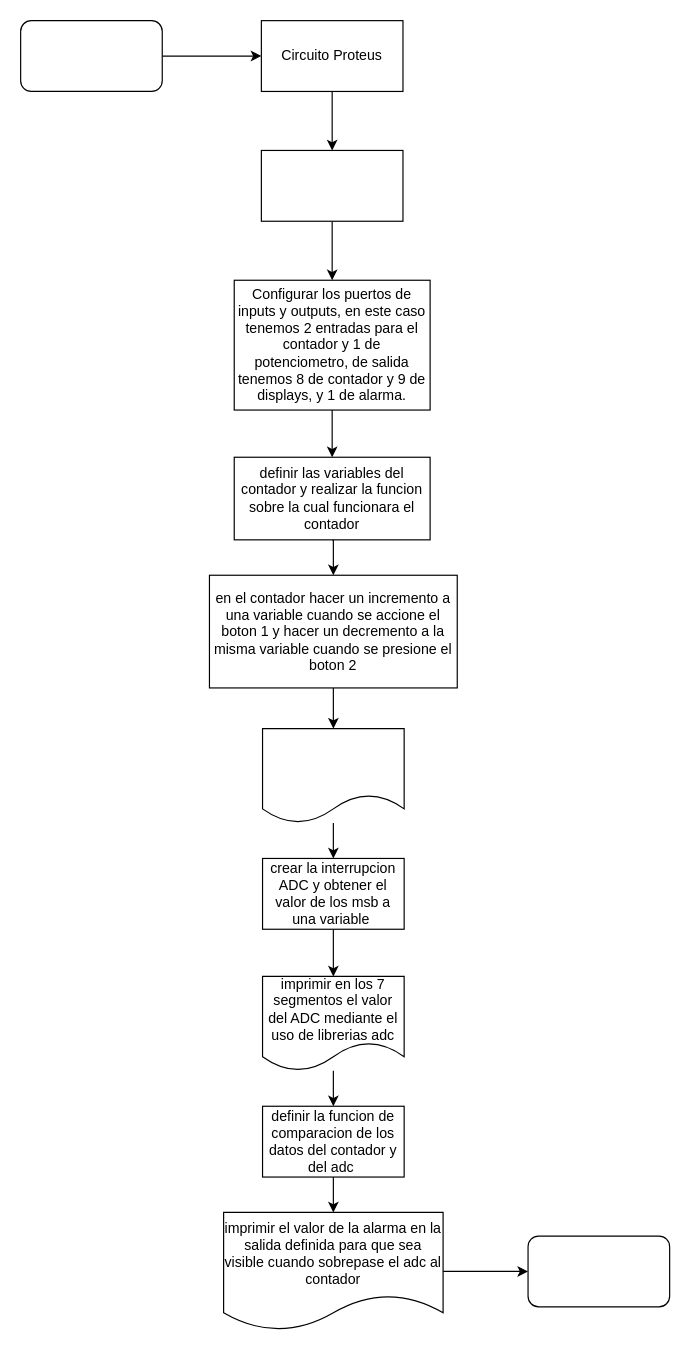
Some shapes in this 690 by 1351 pixel diagram are drawn without their labels. The centre of each missing label's shape, as x and y in pixels:
agregar a proteus y testear: point (598, 1271)
Configuracion incial del programa: point (331, 185)
imprimir en el puerto de los leds la salida del contador: point (332, 775)
LAB 2 18483: point (90, 55)
